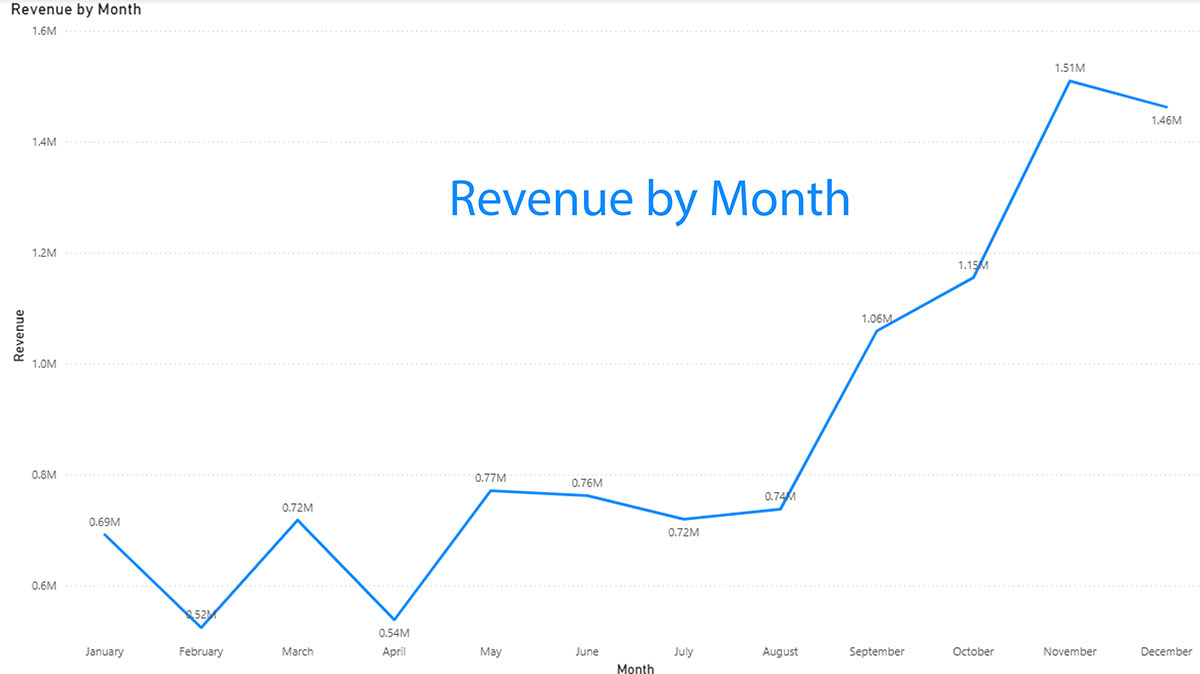

This screenshot's page, from the dashboard's own definition file:
{"tool":"powerbi","page":{"name":"Revenu_trend_by_Month","canvas":[1280,720],"ordinal":0},"visuals":[{"type":"lineChart","fields":{"Category":["Online Retail.InvoiceDate.Variation.Date Hierarchy.Month"],"Y":["Sum(Online Retail.Revenue)"]},"box":[9.4,0,1269.9,720],"z":0}]}

Visuals, with their boxes in screenshot pixels (x1, y1, x2, y2), scaled from the page's 1280x720 canvas onto the 1200x674 screenshot:
lineChart - Online Retail.InvoiceDate.Variation.Date Hierarchy.Month x Sum(Online Retail.Revenue): select_region(9, 0, 1199, 673)
